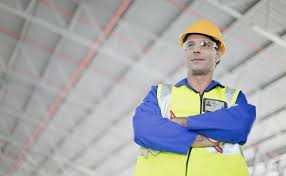Hard Hat: (177, 20, 228, 39)
High Viz: (155, 82, 240, 172)
